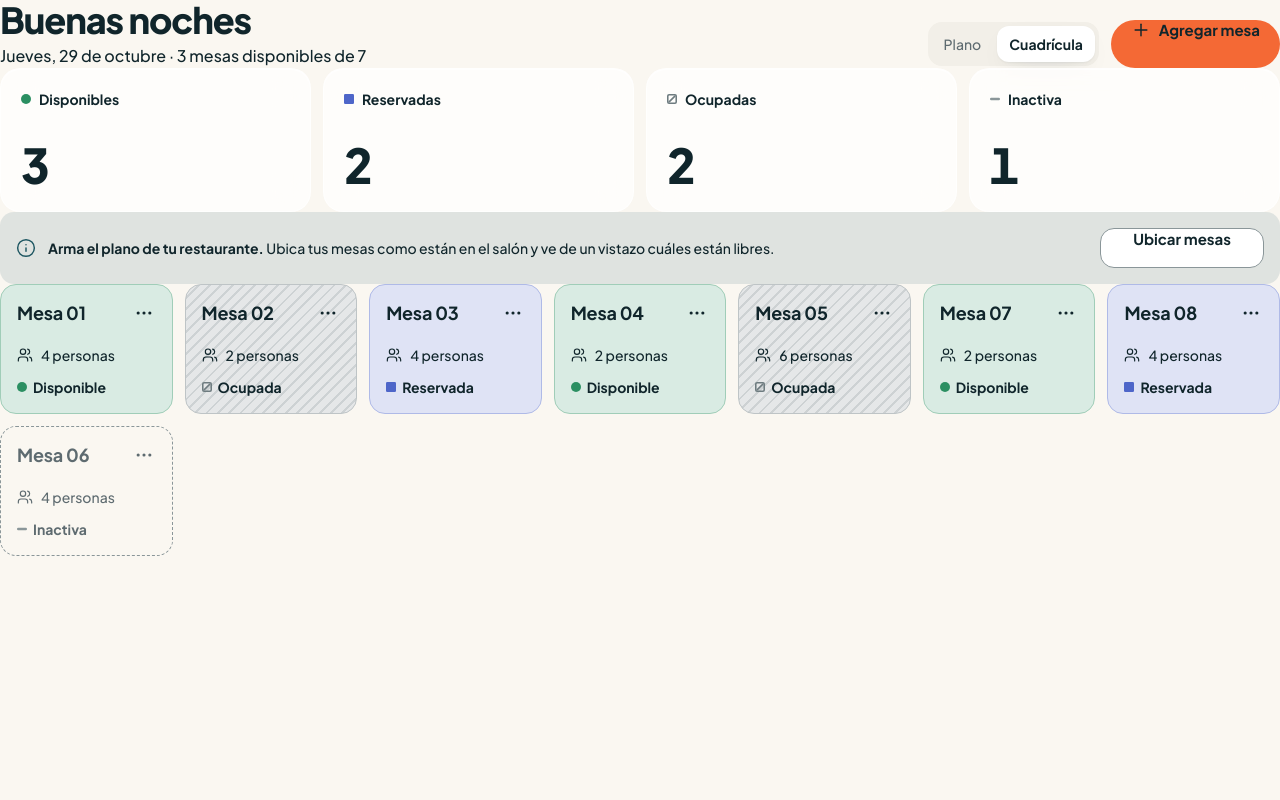
Test case: TablesPage · crear mesa › creates a valid table: closes, toasts and shows it without reloading
expect the list named "Mesas" is shown: met, box [0,284,1279,556]
Step 1. Click the button "Agregar mesa" → (1195, 44), box [1111,20,1279,68]
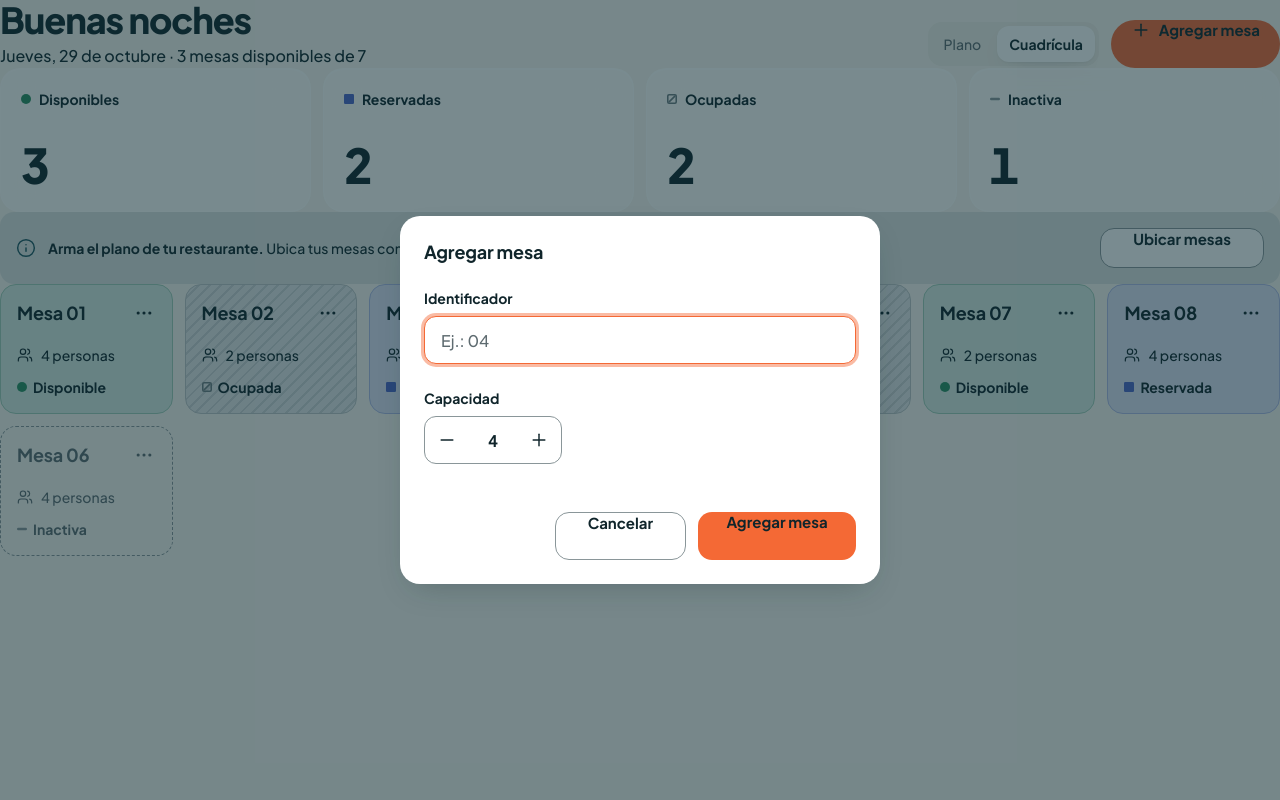
Step 2. Type "9" into the field labelled "Identificador" → (640, 340), box [424,316,856,364]
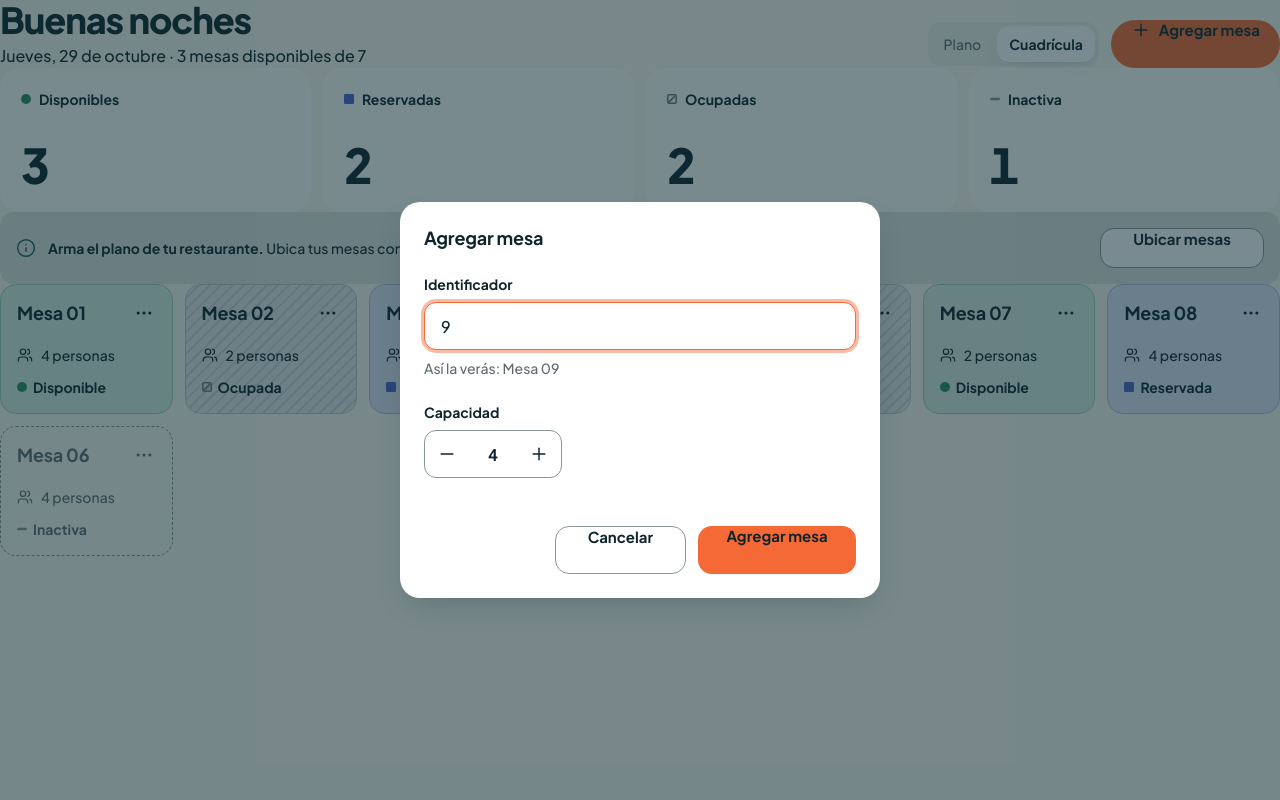
expect the number field labelled "Capacidad" holds "4": met, box [469,431,517,477]
expect the text "Así la verás: Mesa 09" is shown: met, box [424,359,559,377]
Step 3. Click the button named "Agregar una persona" → (539, 454), box [517,432,561,476]
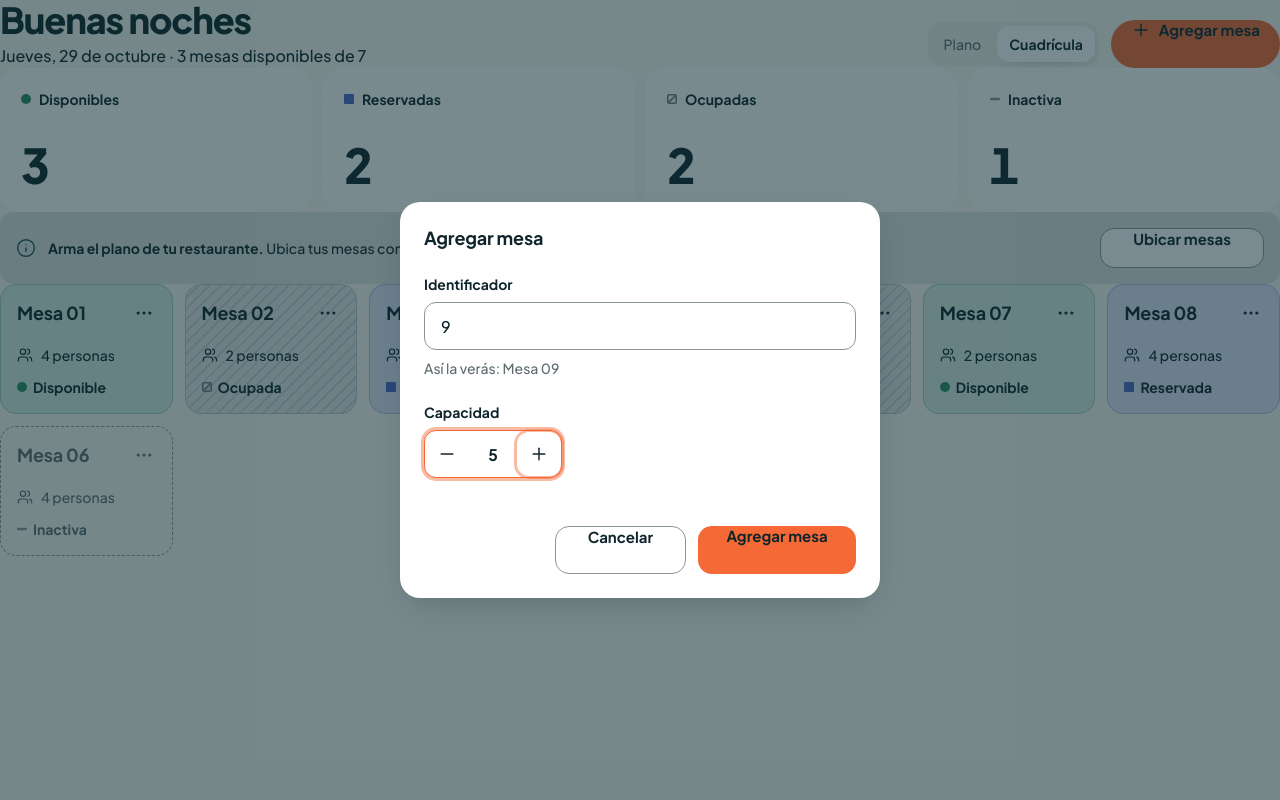
Step 4. Click the button "Agregar mesa" → (777, 550), box [698,526,856,574]
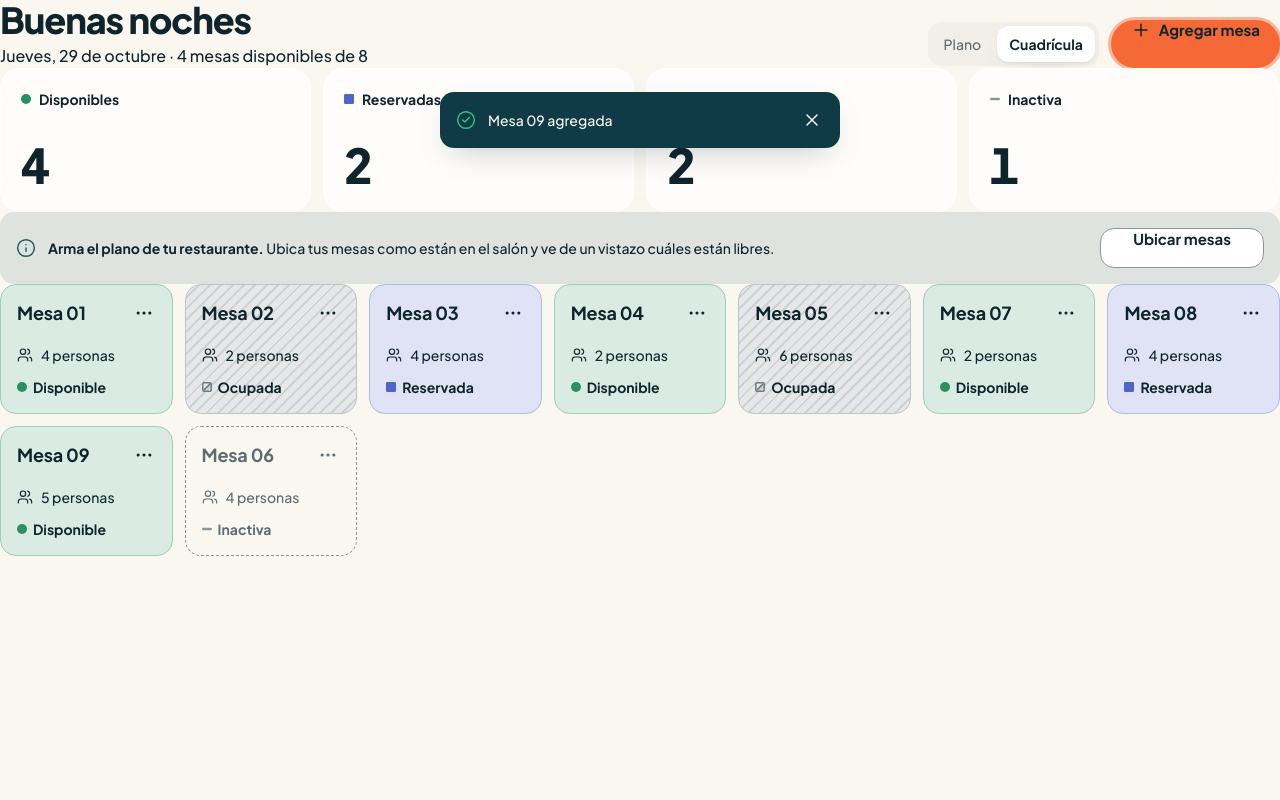
expect the dialog is gone: met
expect the text "Mesa 09 agregada" is shown: met, box [488,111,613,129]
expect the text "5 personas" is shown: met, box [17,488,114,506]
